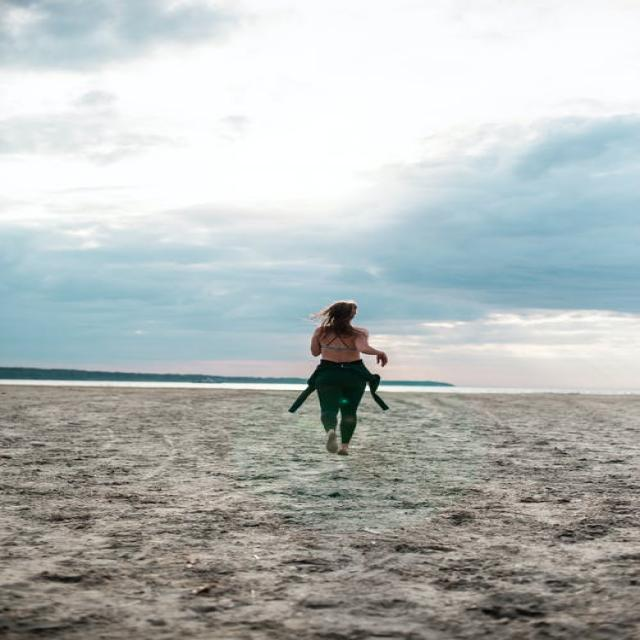running: (288, 298, 394, 457)
